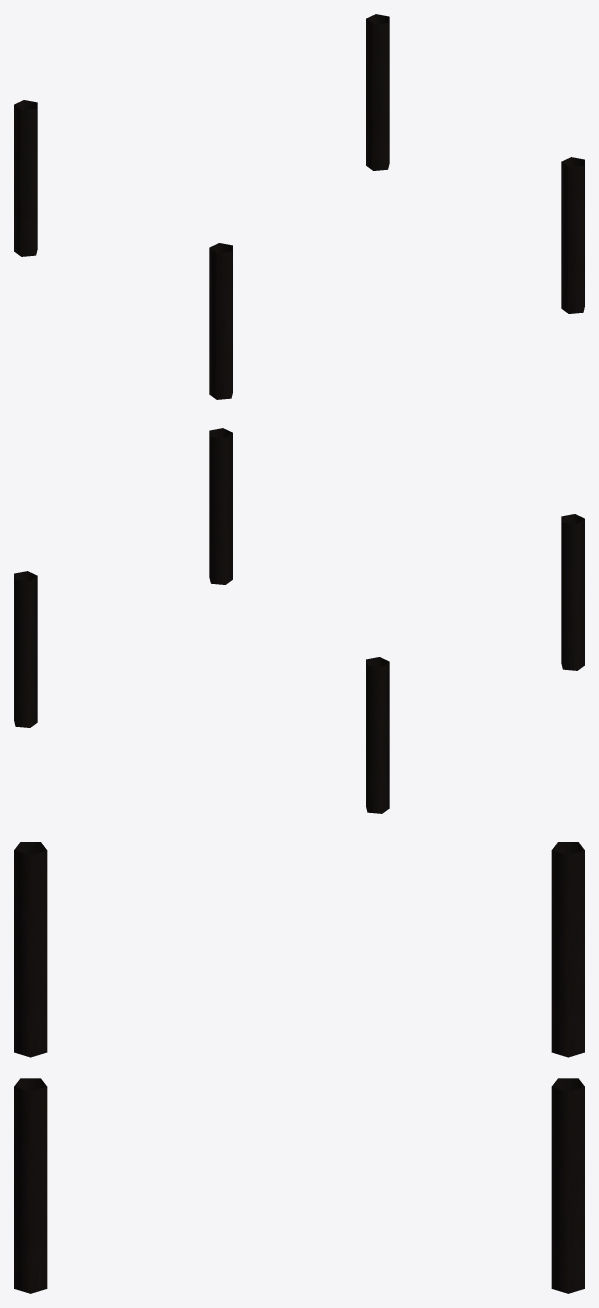
Rendered from PlatformBeams_Art.glb.
The picture shows the model from 3 angles, top to bottom: view 1: azimuth 30°, elevation 25°; view 2: azimuth 150°, elevation 25°; view 3: azimuth 270°, elevation 25°; orthographic projection. The views are drawn at different scales.
Parts seen in each view (by area): view 1: PlatformBeams_Art; view 2: PlatformBeams_Art; view 3: PlatformBeams_Art.
Part boxes in pixels (left/top/right/bottom): PlatformBeams_Art: left=14, top=14, right=584, bottom=399; PlatformBeams_Art: left=14, top=428, right=584, bottom=813; PlatformBeams_Art: left=14, top=842, right=584, bottom=1293.
Size of the model in its own units: 1.48 by 0.5587 by 1.43.
1 material, 1 textured.
